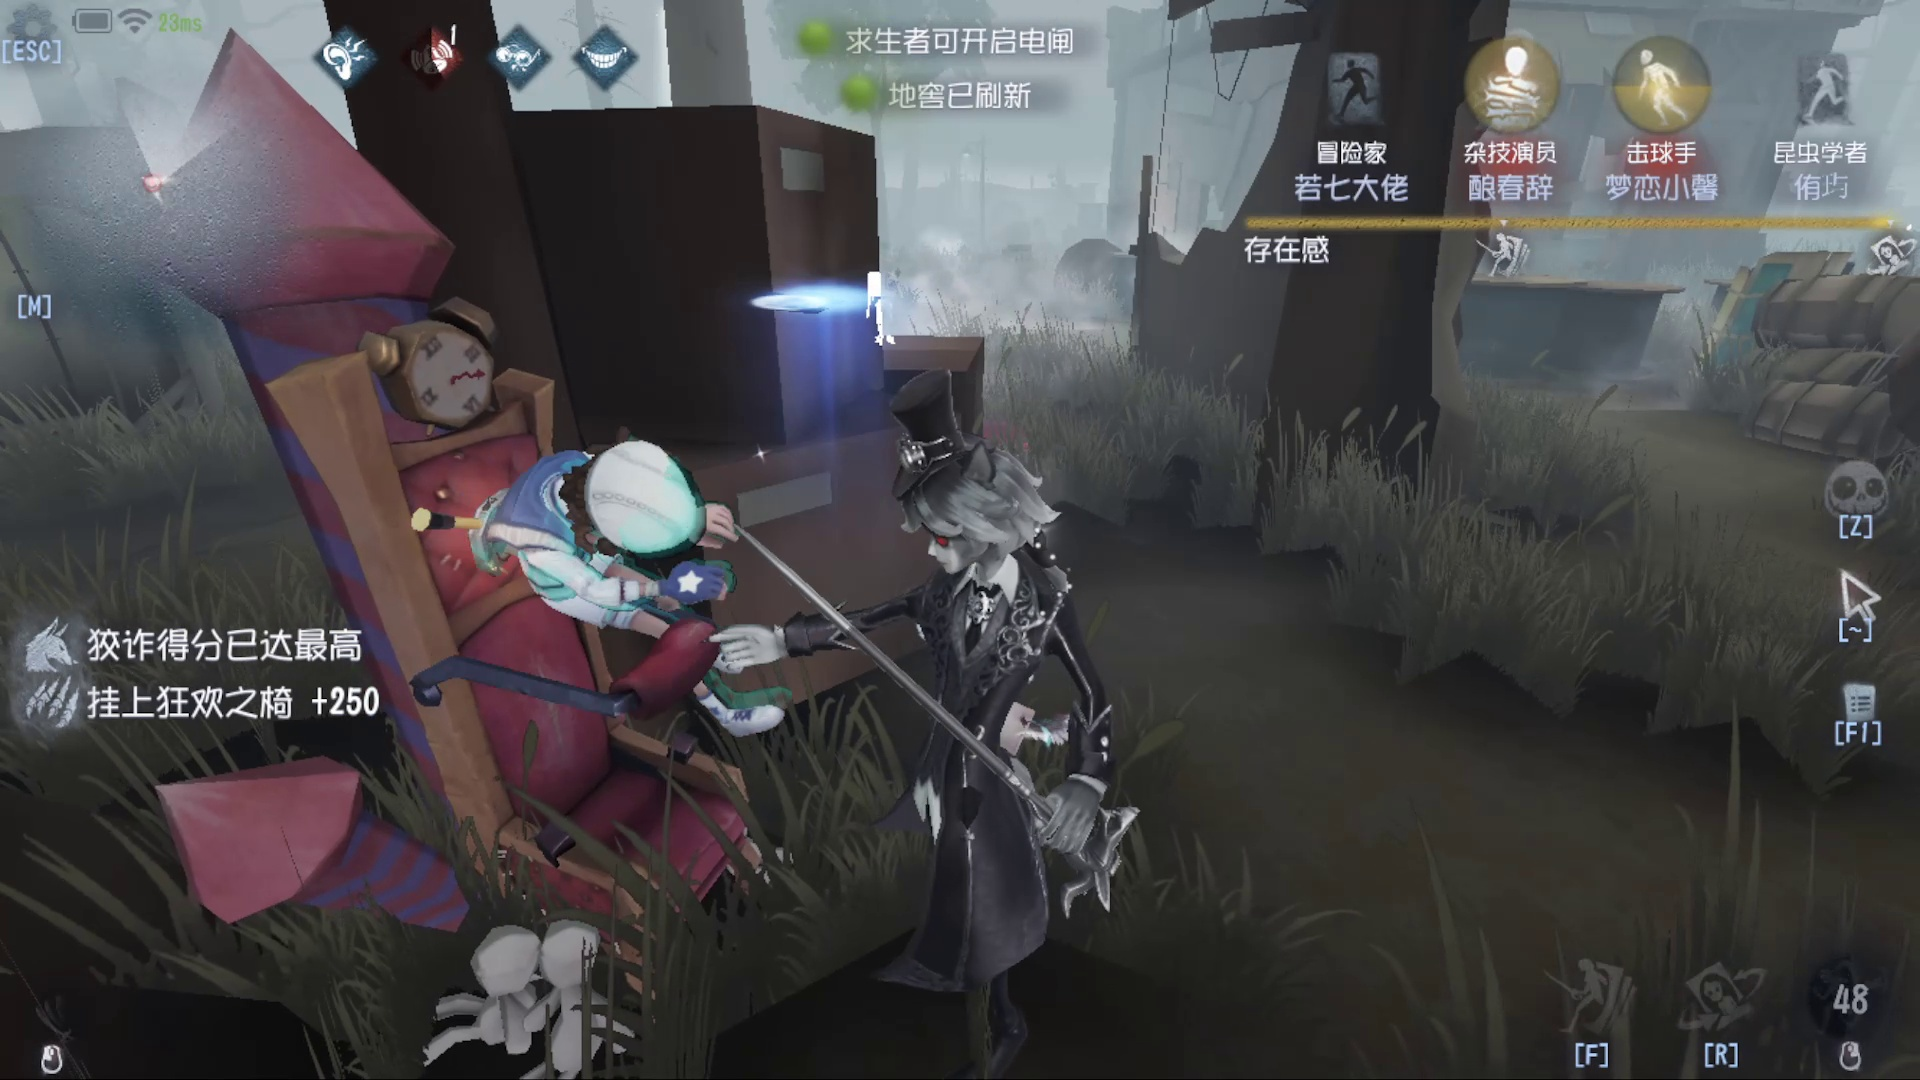木板: (1687, 232, 1808, 410)
求生者: (471, 431, 774, 704)
狂欢之椅: (138, 69, 829, 969)
